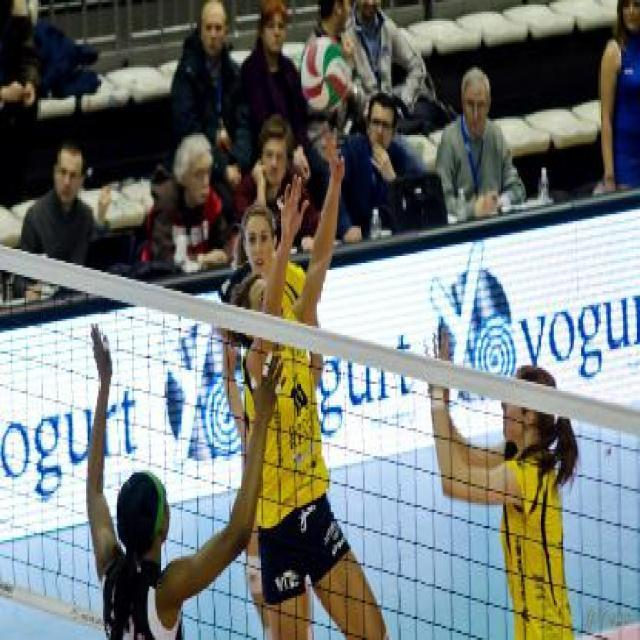volleyball: (300, 36, 350, 110)
